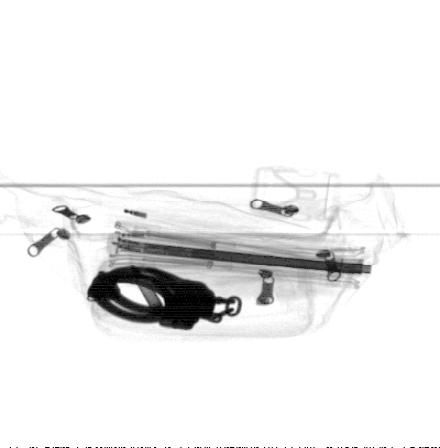Bullet: (134, 263, 164, 311)
HandCuffs: (85, 261, 246, 333)
